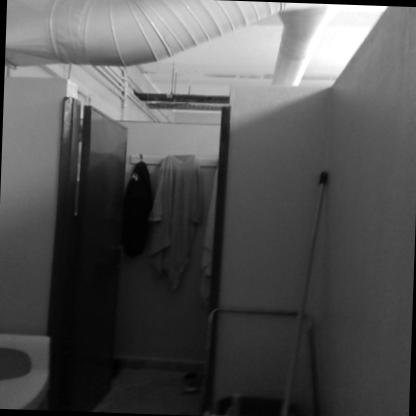open: (38, 74, 243, 403)
